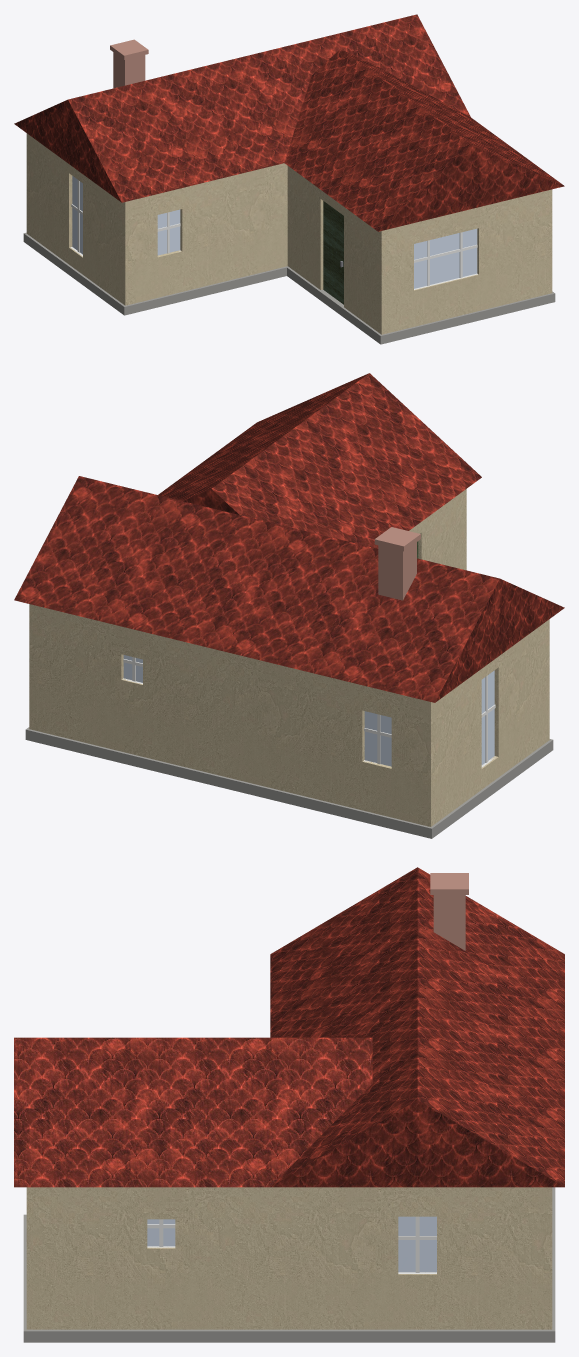
The model's file is house13.glb.
The picture shows the model from 3 angles, top to bottom: view 1: azimuth 30°, elevation 25°; view 2: azimuth 150°, elevation 25°; view 3: azimuth 270°, elevation 25°; orthographic projection. The views are drawn at different scales.
Visible parts, largest first — view 1: roof01, house13, wall03, wall04, wall11, wall01, wall08, wall02, wall10, wall09, wall12, wall06 (+12 smaller); view 2: roof01, house13, wall25, wall26, wall23, wall24, wall21, wall28, wall22, wall27, wall20, wall29 (+8 smaller); view 3: roof01, wall13, wall15, wall16, wall17, wall19, wall14, house13, wall18, wall12, wall20, komin01 (+2 smaller).
Boxes of the visible parts, bbox=[...] form: roof01: bbox=[14, 14, 564, 231]; house13: bbox=[23, 232, 555, 344]; wall03: bbox=[190, 176, 230, 289]; wall04: bbox=[231, 166, 271, 279]; wall11: bbox=[487, 195, 527, 308]; wall01: bbox=[111, 195, 149, 305]; wall08: bbox=[367, 224, 405, 334]; wall02: bbox=[149, 186, 190, 299]; wall10: bbox=[446, 205, 487, 318]; wall09: bbox=[406, 215, 446, 328]; wall12: bbox=[527, 189, 552, 298]; wall06: bbox=[297, 172, 323, 289]; roof01: bbox=[14, 373, 564, 702]; house13: bbox=[25, 727, 553, 838]; wall25: bbox=[254, 659, 303, 795]; wall26: bbox=[303, 671, 352, 807]; wall23: bbox=[156, 635, 205, 771]; wall24: bbox=[205, 647, 254, 783]; wall21: bbox=[58, 611, 107, 747]; wall28: bbox=[401, 694, 447, 826]; wall22: bbox=[107, 623, 156, 759]; wall27: bbox=[352, 683, 401, 819]; wall20: bbox=[29, 604, 58, 736]; wall29: bbox=[447, 673, 475, 814]; roof01: bbox=[14, 867, 564, 1187]; wall13: bbox=[65, 1187, 129, 1329]; wall15: bbox=[193, 1187, 257, 1329]; wall16: bbox=[257, 1187, 321, 1329]; wall17: bbox=[321, 1187, 385, 1329]; wall19: bbox=[449, 1187, 513, 1329]; wall14: bbox=[129, 1187, 193, 1329]; house13: bbox=[23, 1187, 555, 1342]; wall18: bbox=[385, 1187, 449, 1329]; wall12: bbox=[26, 1187, 65, 1329]; wall20: bbox=[513, 1187, 552, 1329]; komin01: bbox=[430, 873, 468, 950].
Size of the model in its own units: 8.6 by 4.85 by 8.6.
Materials: 19 (5 with a texture image).
